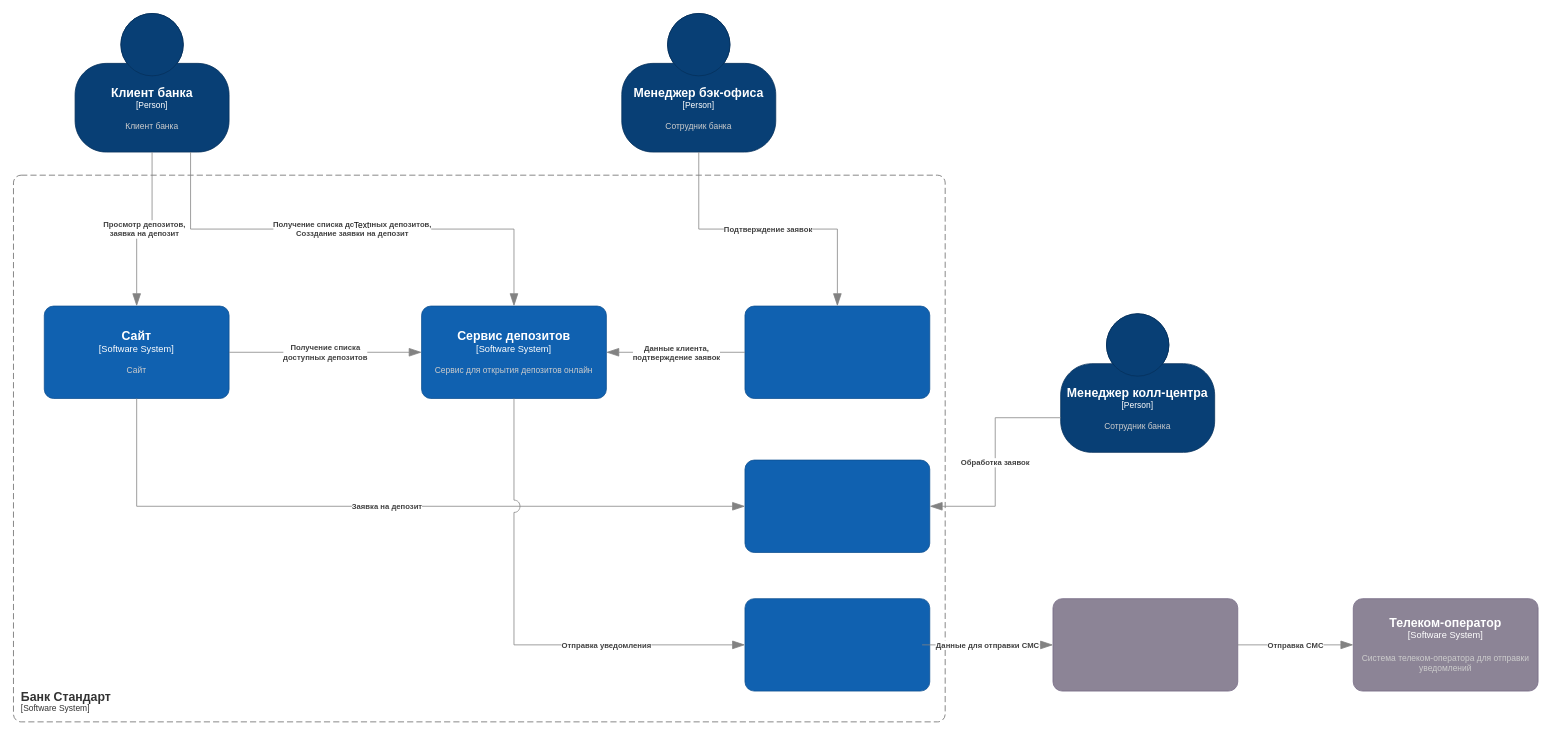
Some shapes in this 1552 by 735 pixel diagram are drawn without their labels. The centre of each missing label's shape, as x and y in pixels:
АБС [Software System] Автоматизированная банковская система: (837,351)
Колл-центр [Software System] система, обрабатывающая звонки клиентов: (837,505)
СМС-шлюз [Software System] Система отправки СМС: (837,644)
СМС-шлюз телеком-оператора [Software System] Интеграция с СМС-шлюзом банка: (1145,644)
